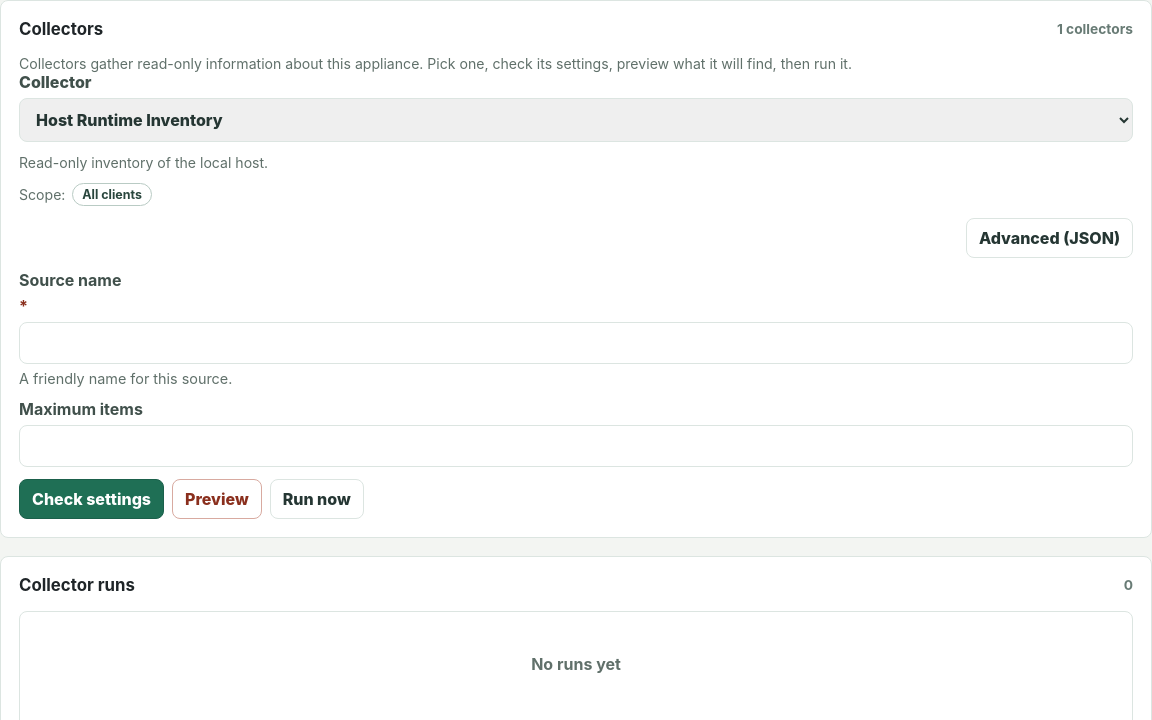
Collectors screen › humanizes validation text and keeps the backend wording in technical details
The image size is (1152, 720).
Type "demo" into the field labelled "Source name". click: (576, 343)
box: [19,322,1133,364]
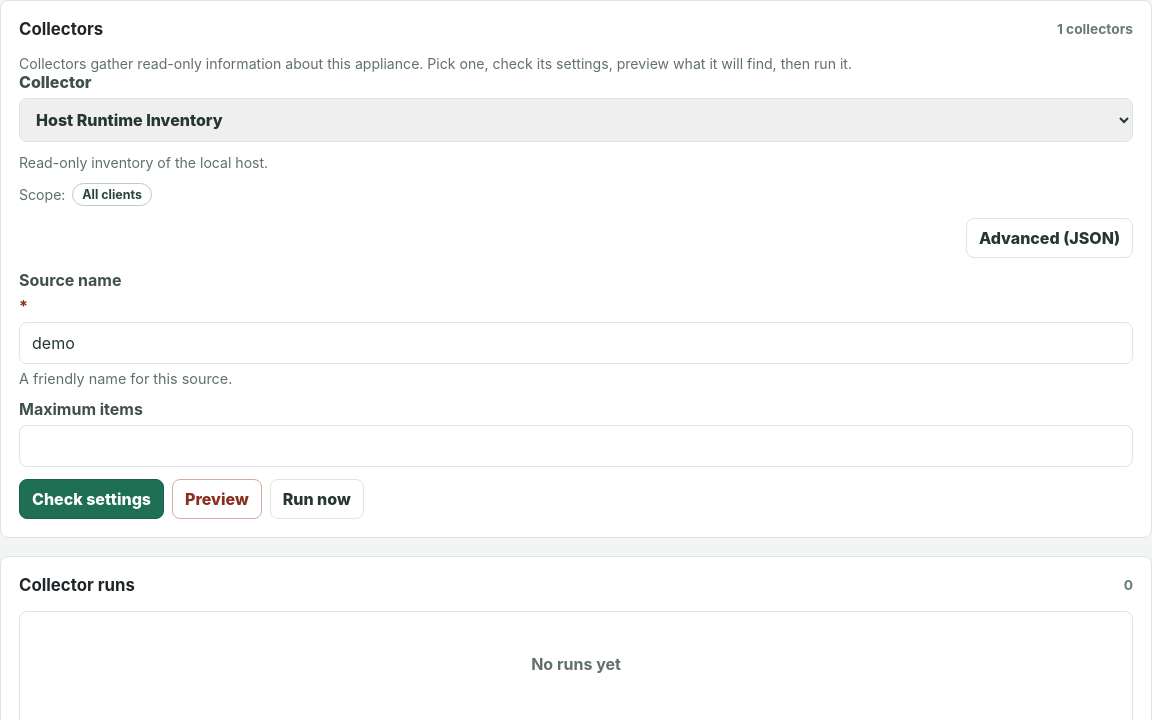
Click the button "Check settings". click: (92, 499)
box: [19,479,164,519]
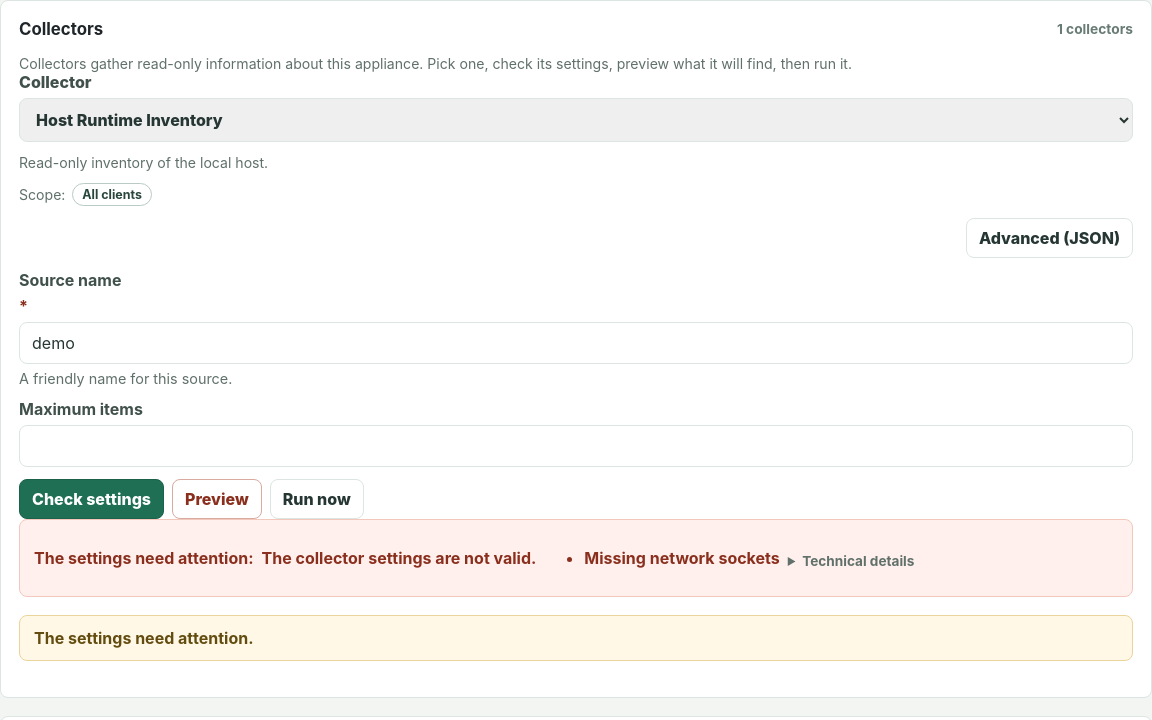
Expected: the text "The collector settings are not valid." is shown, [262,548,536,568]
Expected: the list item "Missing network sockets" is shown, [584,548,780,568]
Expected: the text "collector configuration is invalid" is shown, [788,553,914,569]
